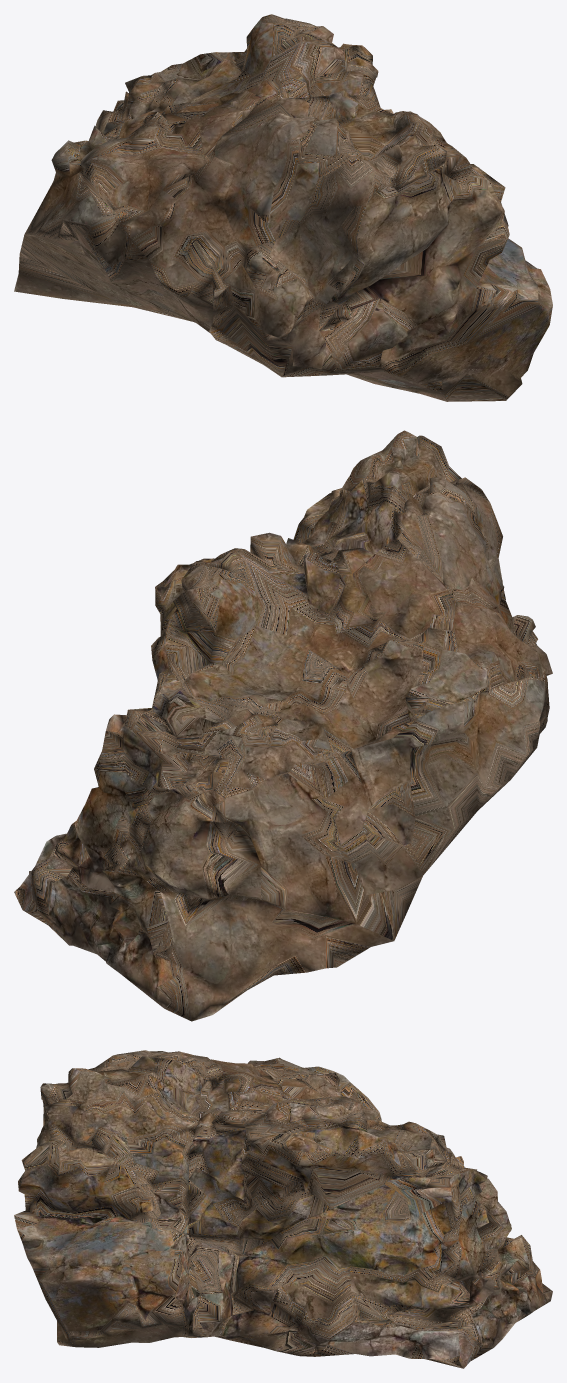
Rendered from rock_boulder_granite.glb.
The picture shows the model from 3 angles, top to bottom: view 1: azimuth 30°, elevation 25°; view 2: azimuth 150°, elevation 25°; view 3: azimuth 270°, elevation 25°; orthographic projection. The views are drawn at different scales.
Visible parts, largest first — view 1: boulder_01; view 2: boulder_01; view 3: boulder_01.
Boxes of the visible parts, x1,y1,x2,y2 form: boulder_01: [14, 14, 552, 401]; boulder_01: [14, 430, 552, 1021]; boulder_01: [14, 1050, 552, 1368].
Bounding box in the file's own units: 1.27 × 1 × 1.83.
1 material, 1 textured.
